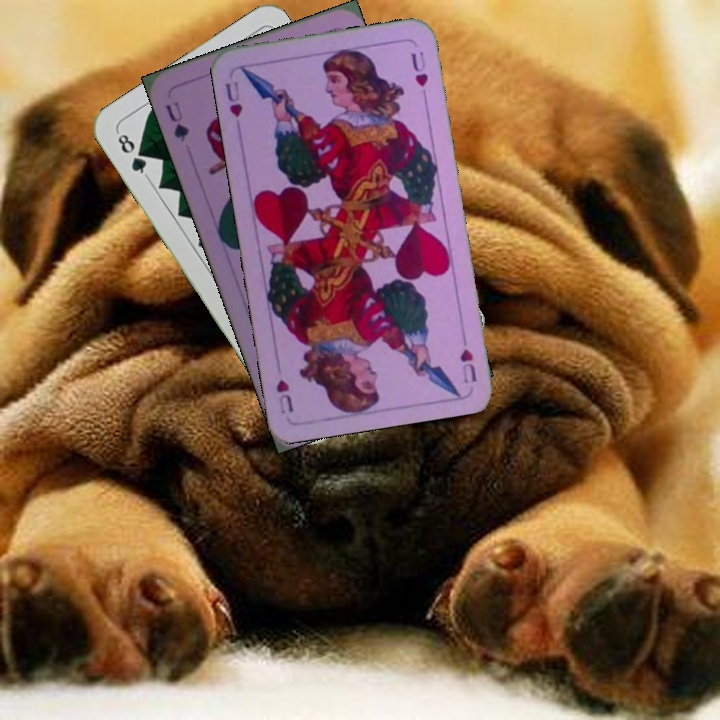G8: (113, 128, 151, 180)
GU: (161, 97, 192, 144)
HU: (455, 328, 479, 386), (221, 77, 245, 120)
